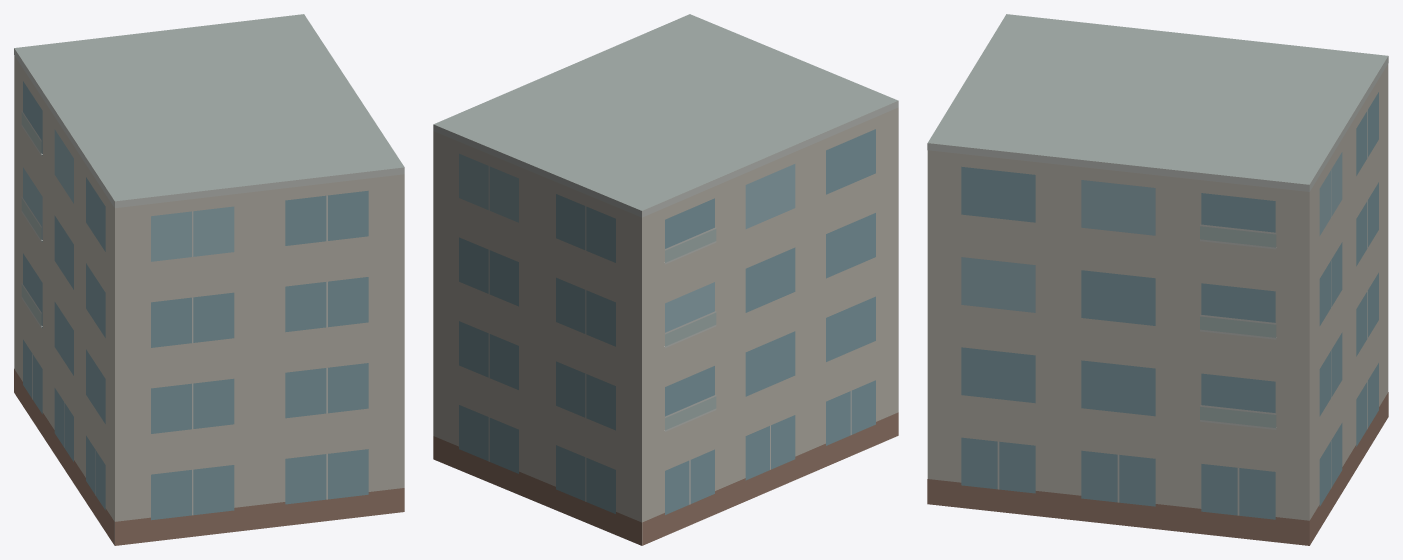
Rendered from residential-790c4a88-a348-47f8-ab44-dede7d613779.glb.
The picture shows the model from 3 angles, left to right: view 1: azimuth 30°, elevation 25°; view 2: azimuth 150°, elevation 25°; view 3: azimuth 270°, elevation 25°; orthographic projection. The views are drawn at different scales.
Parts seen in each view (by area): view 1: residential-790c4a88-a348-47f8-ab44-dede7d613779.tmp; view 2: residential-790c4a88-a348-47f8-ab44-dede7d613779.tmp; view 3: residential-790c4a88-a348-47f8-ab44-dede7d613779.tmp.
Part boxes in pixels (box(x1,y1,x2,y2)): residential-790c4a88-a348-47f8-ab44-dede7d613779.tmp: box(14, 14, 404, 545); residential-790c4a88-a348-47f8-ab44-dede7d613779.tmp: box(433, 14, 898, 545); residential-790c4a88-a348-47f8-ab44-dede7d613779.tmp: box(927, 14, 1388, 545).
Size of the model in its own units: 12.39 by 12.2 by 14.13.
